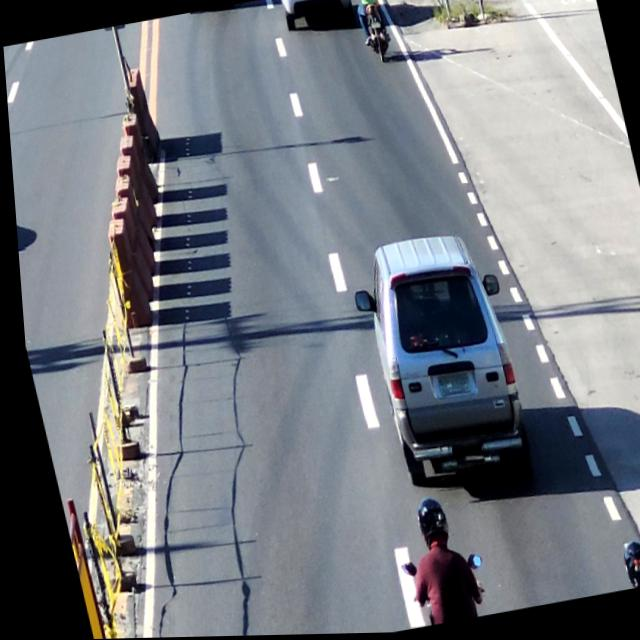Car: (346, 226, 536, 500), (285, 0, 355, 39)
License-Plate: (428, 369, 470, 404)
Motorcycle: (381, 494, 485, 629), (351, 0, 396, 73), (600, 532, 640, 594)
